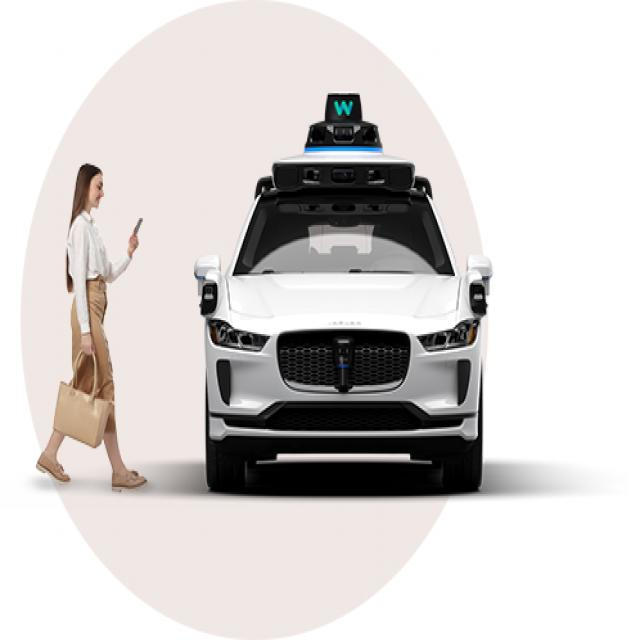car: (190, 88, 497, 494)
person: (38, 158, 150, 496)
